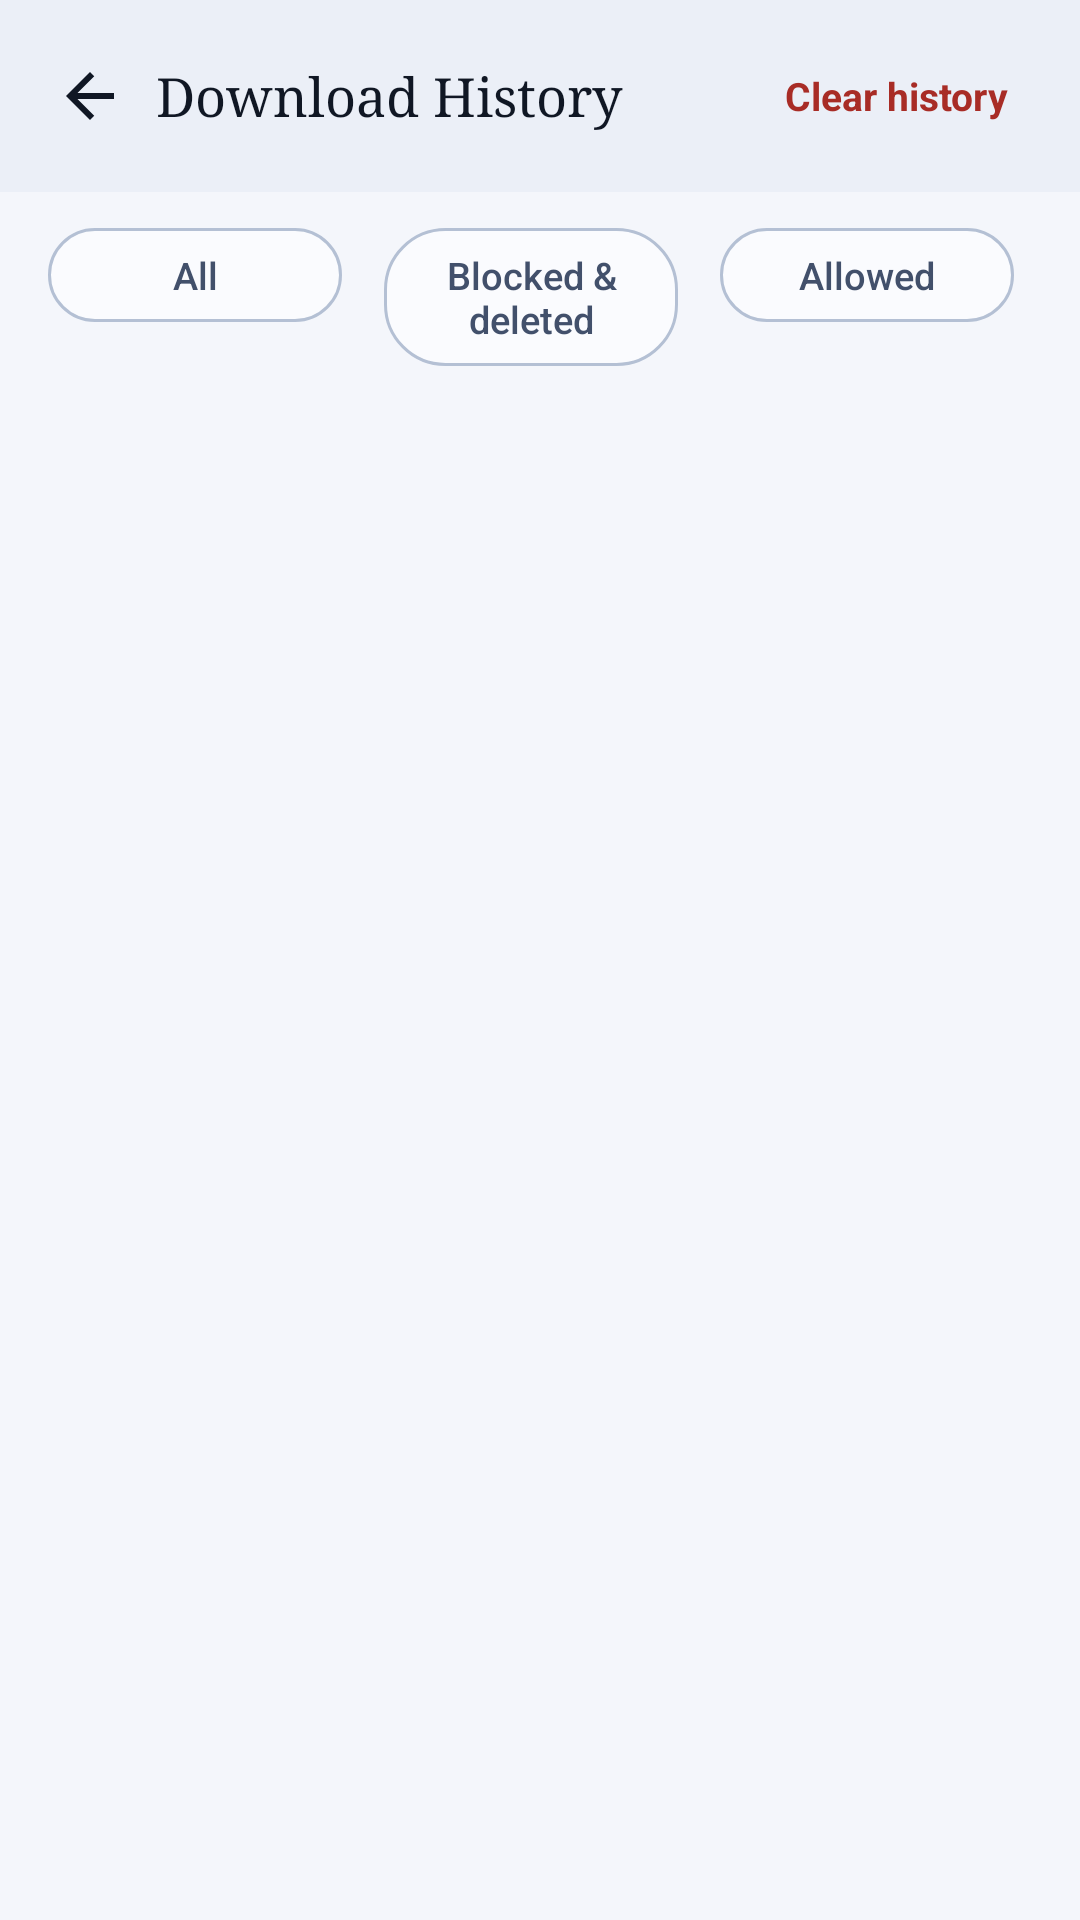

Named icons in this screenshot (1080 × 1920) and their centers, point (x, y):
Back: point (90, 96)
